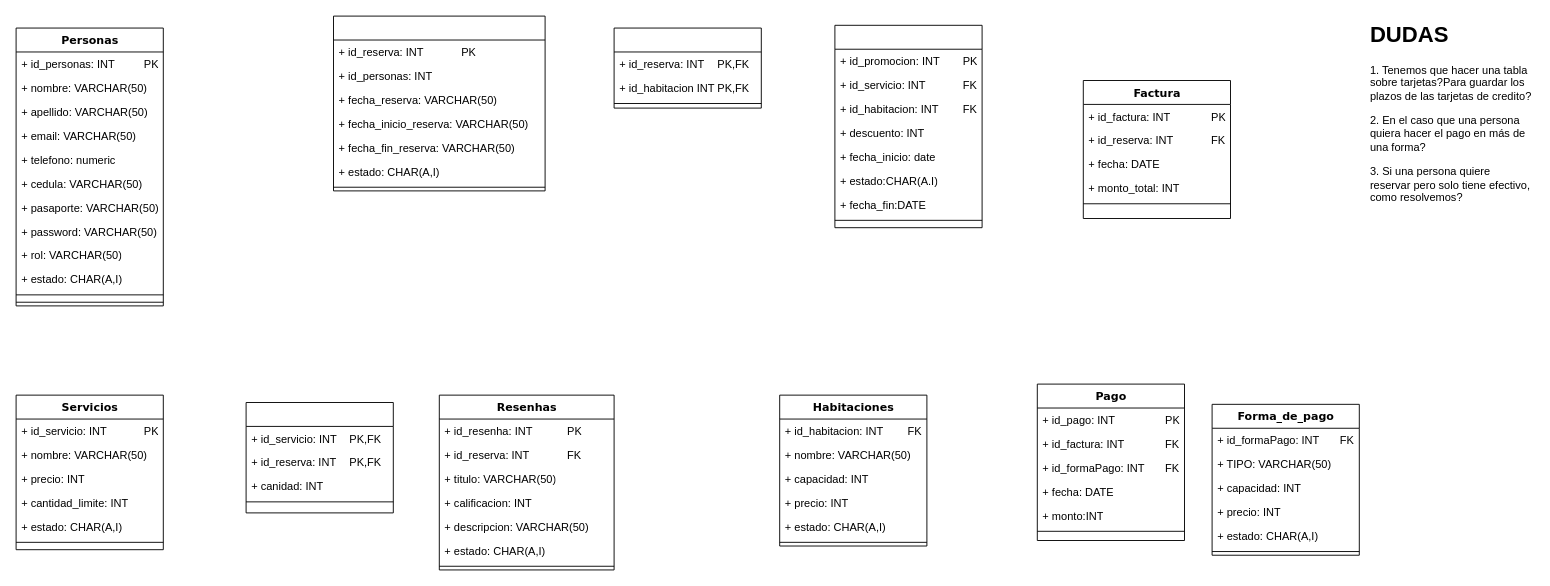
The diagram is 1550 pixels wide and 586 high, and some of its shapes have lost their labels. The shapes that lost their labels are listed below. From the top down, each one's box as (x1, y1, x2, y2) in pixels, then its label:
(613, 27, 761, 108): Reserva_habitacion
(333, 15, 545, 191): Reservas
(834, 24, 982, 228): Promociones
(245, 402, 393, 513): Reserva_servicio
